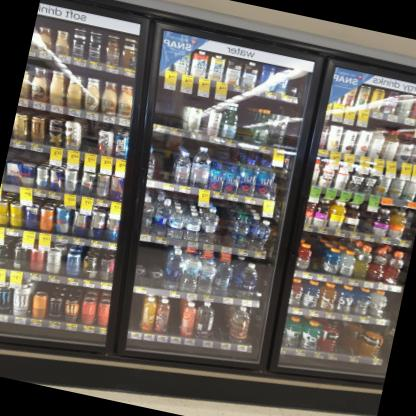empty_space: (154, 94, 185, 129), (154, 148, 173, 185), (210, 312, 226, 342), (166, 304, 180, 338), (129, 296, 142, 332)
